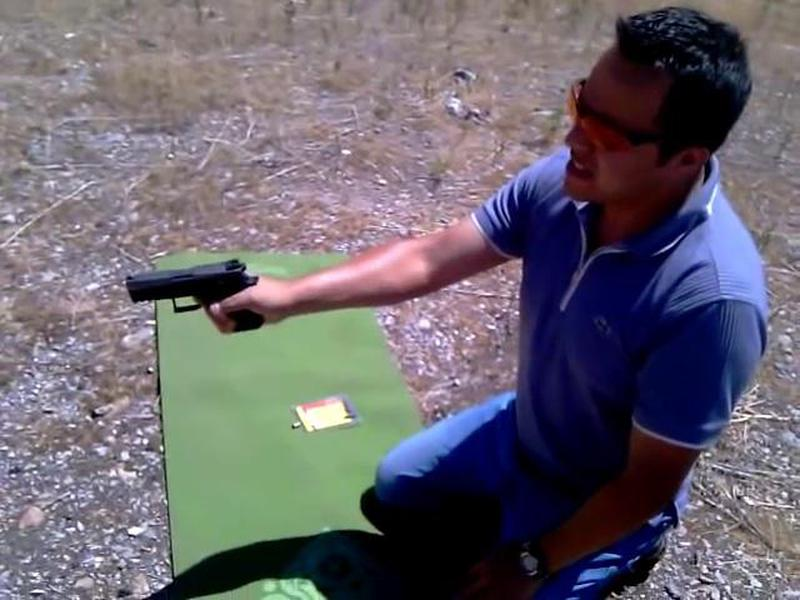Pistola: (119, 250, 281, 343)
